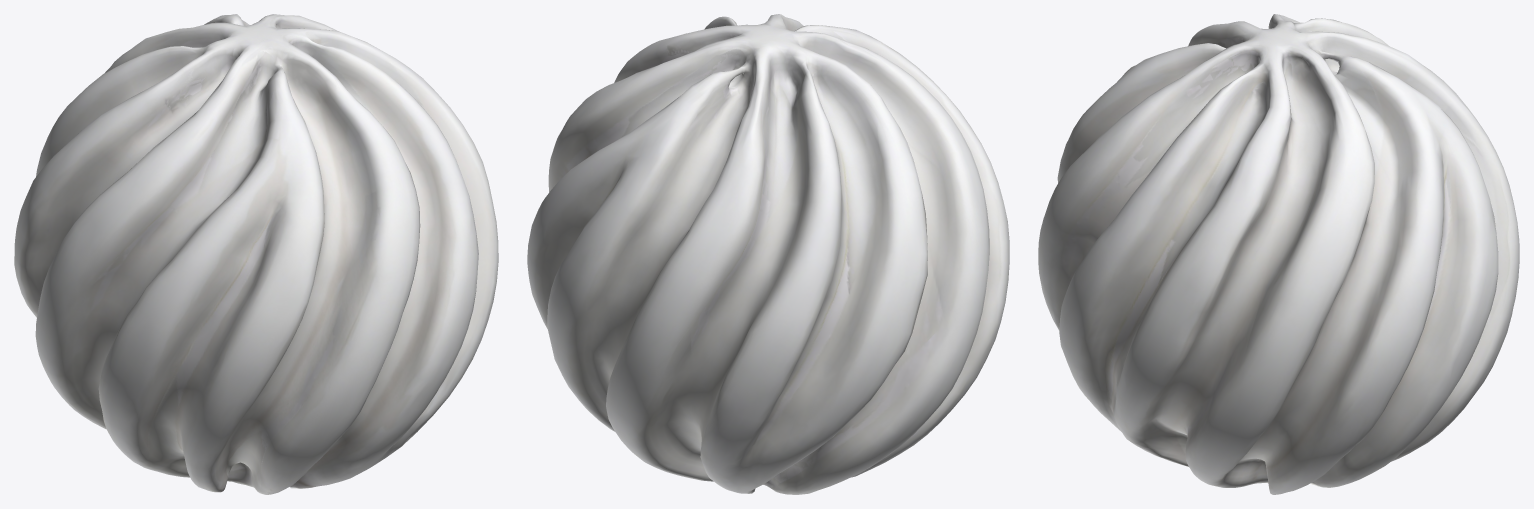
3 views of the same model, side by side, from view 1: azimuth 30°, elevation 25°; view 2: azimuth 150°, elevation 25°; view 3: azimuth 270°, elevation 25° (orthographic).
Bounding box in the file's own units: 2 × 2 × 2.
1 material, 1 textured.
